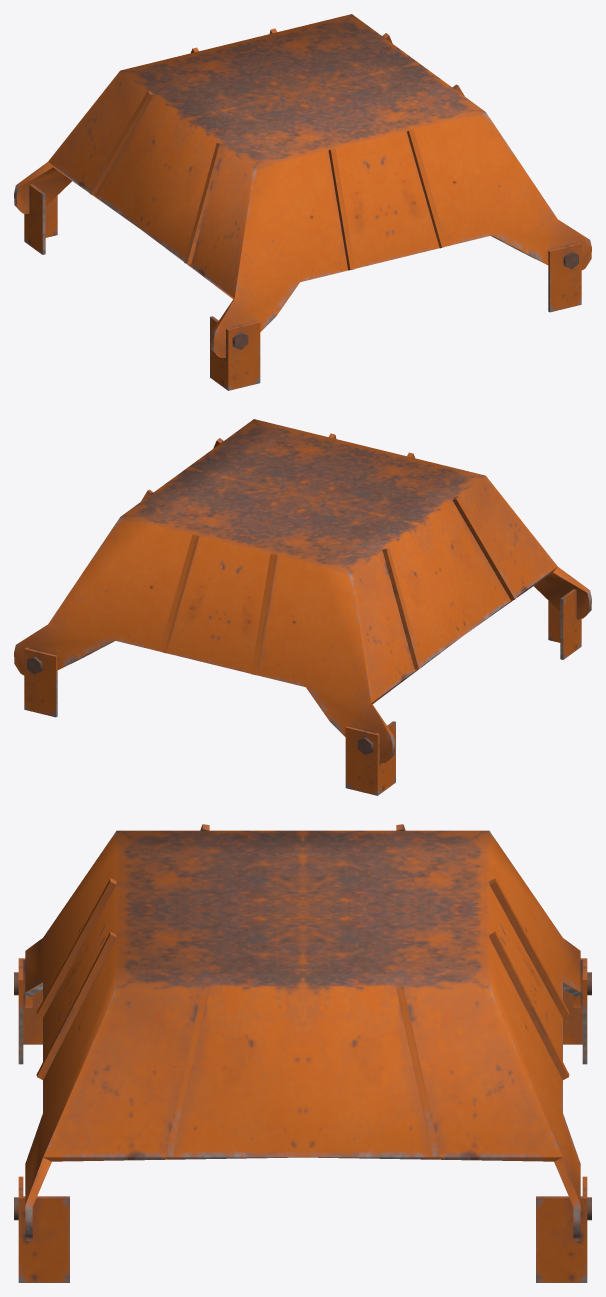
The model's file is CraneLegEnd.fbx.
The picture shows the model from 3 angles, top to bottom: view 1: azimuth 30°, elevation 25°; view 2: azimuth 150°, elevation 25°; view 3: azimuth 270°, elevation 25°; orthographic projection. The views are drawn at different scales.
Visible parts, largest first — view 1: Crane_Leg_End_LOD0; view 2: Crane_Leg_End_LOD0; view 3: Crane_Leg_End_LOD0.
Part boxes in pixels (<box>): Crane_Leg_End_LOD0: <box>14,14,591,390</box>; Crane_Leg_End_LOD0: <box>14,419,591,795</box>; Crane_Leg_End_LOD0: <box>14,824,591,1282</box>.
Size of what is drawn, in the model's own units: 3.27 by 1.52 by 3.1.
